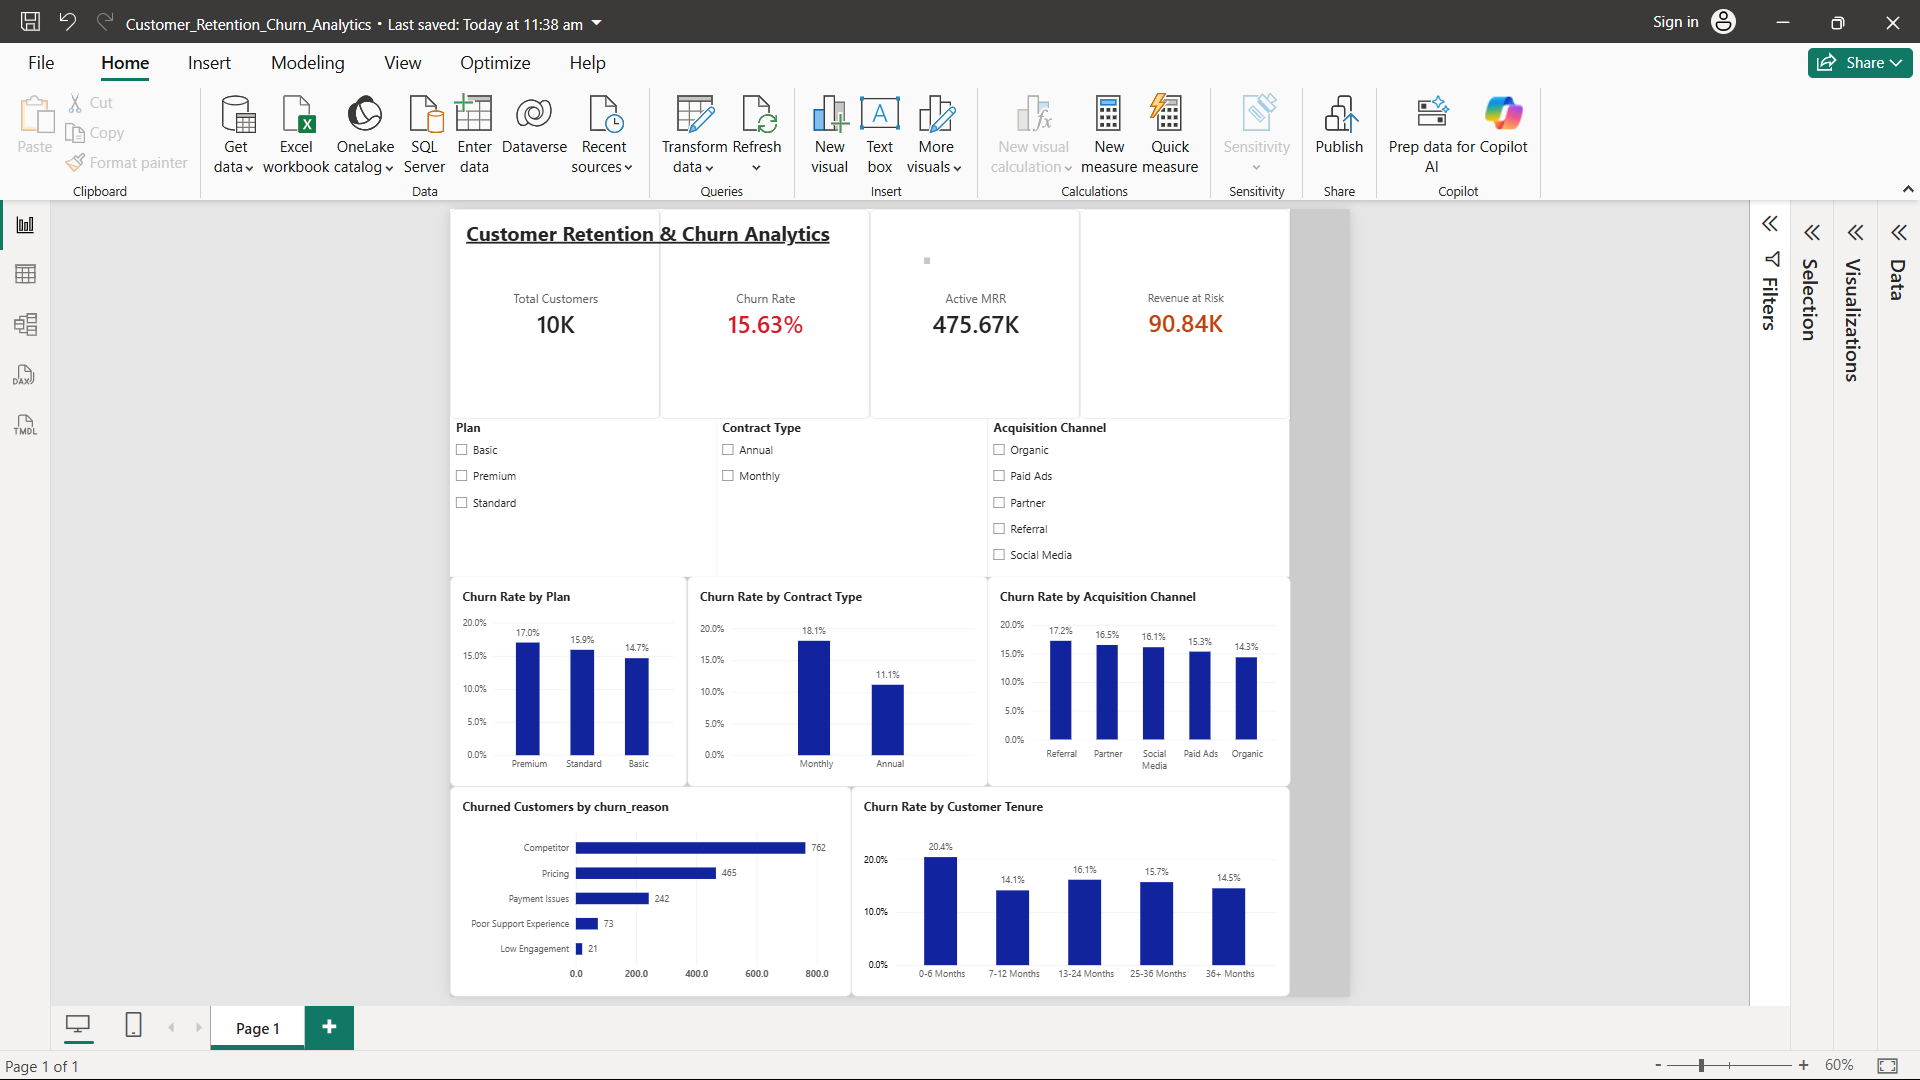

Layout of this report page (visuals, bound fields, positions):
{"tool":"powerbi","page":{"name":"Page 1","canvas":[1200,1050],"ordinal":0},"visuals":[{"type":"cardVisual","fields":{"Data":["public customers.Total Customers"]},"box":[0,0,280,280],"z":0},{"type":"cardVisual","fields":{"Data":["public customers.Churn Rate"]},"box":[280,0,280,280],"z":1000},{"type":"cardVisual","fields":{"Data":["public customers.Active MRR"]},"box":[560,0,280,280],"z":2000},{"type":"cardVisual","fields":{"Data":["public customers.Revenue at Risk"]},"box":[840,0,280,280],"z":3000},{"type":"clusteredColumnChart","title":"Churn Rate by Plan","fields":{"Category":["public customers.plan"],"Y":["public customers.Churn Rate"]},"box":[0,490.2,315.9,280.1],"z":4000},{"type":"clusteredColumnChart","title":"Churn Rate by Contract Type","fields":{"Category":["public customers.contract_type"],"Y":["public customers.Churn Rate"]},"box":[315.9,490.2,400.6,280.1],"z":5000},{"type":"clusteredColumnChart","title":"Churn Rate by Acquisition Channel","fields":{"Category":["public customers.acquisition_channel"],"Y":["public customers.Churn Rate"]},"box":[716.5,490.2,403.8,280.1],"z":6000},{"type":"clusteredBarChart","fields":{"Category":["public customers.churn_reason"],"Y":["public customers.Churned Customers"]},"box":[0,770,535,280],"z":7000},{"type":"clusteredColumnChart","title":"Churn Rate by Customer Tenure","fields":{"Category":["public customers.Tenure Group"],"Y":["public customers.Churn Rate"]},"box":[535,770,585,280],"z":8000},{"type":"slicer","fields":{"Values":["public customers.plan"]},"box":[0,280.1,355,210.1],"z":9000},{"type":"slicer","fields":{"Values":["public customers.contract_type"]},"box":[355,280.1,361.5,210.1],"z":10000},{"type":"slicer","fields":{"Values":["public customers.acquisition_channel"]},"box":[716.5,280.1,402.2,210.1],"z":11000},{"type":"textbox","title":"Customer Retention & Churn Analytics","box":[22,14,618,60],"z":12000}]}

Visuals, with their boxes on the page's 1200x1050 design canvas (x1, y1, x2, y2). These are canvas units, not pixel positions in the 1920x1080 screenshot, which may show the page scaled, cropped or inside an application window:
cardVisual - public customers.Total Customers: 0, 0, 280, 280
cardVisual - public customers.Churn Rate: 280, 0, 560, 280
cardVisual - public customers.Active MRR: 560, 0, 840, 280
cardVisual - public customers.Revenue at Risk: 840, 0, 1120, 280
"Churn Rate by Plan" clusteredColumnChart: 0, 490, 316, 770
"Churn Rate by Contract Type" clusteredColumnChart: 316, 490, 716, 770
"Churn Rate by Acquisition Channel" clusteredColumnChart: 716, 490, 1120, 770
clusteredBarChart - public customers.churn_reason x public customers.Churned Customers: 0, 770, 535, 1050
"Churn Rate by Customer Tenure" clusteredColumnChart: 535, 770, 1120, 1050
slicer - public customers.plan: 0, 280, 355, 490
slicer - public customers.contract_type: 355, 280, 716, 490
slicer - public customers.acquisition_channel: 716, 280, 1119, 490
"Customer Retention & Churn Analytics" textbox: 22, 14, 640, 74
